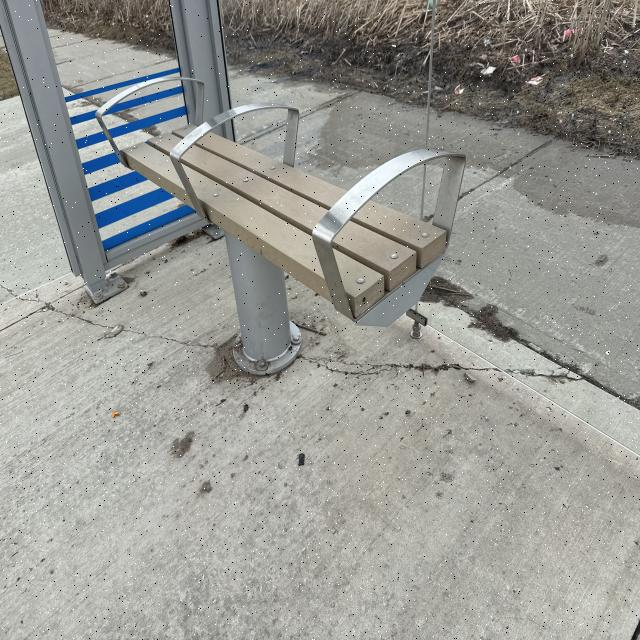Bench: (94, 72, 457, 375)
